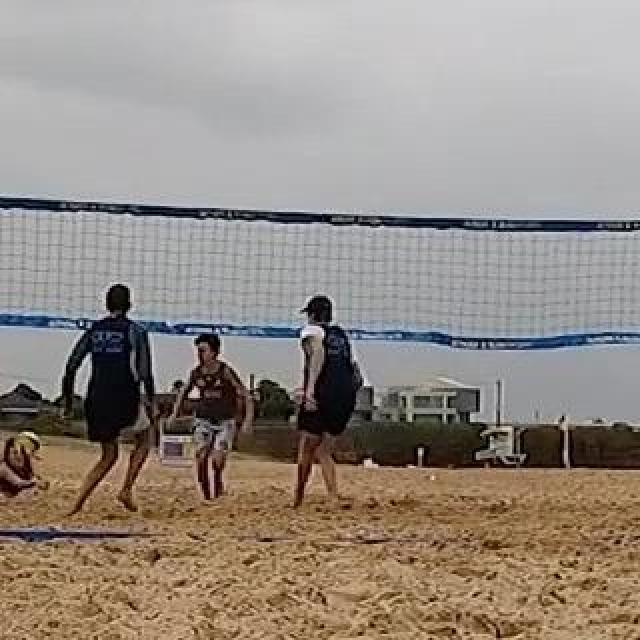volleyball: (16, 432, 40, 456)
